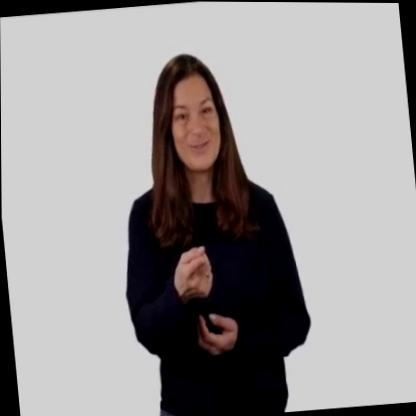HowAreYou: (160, 219, 245, 368)
